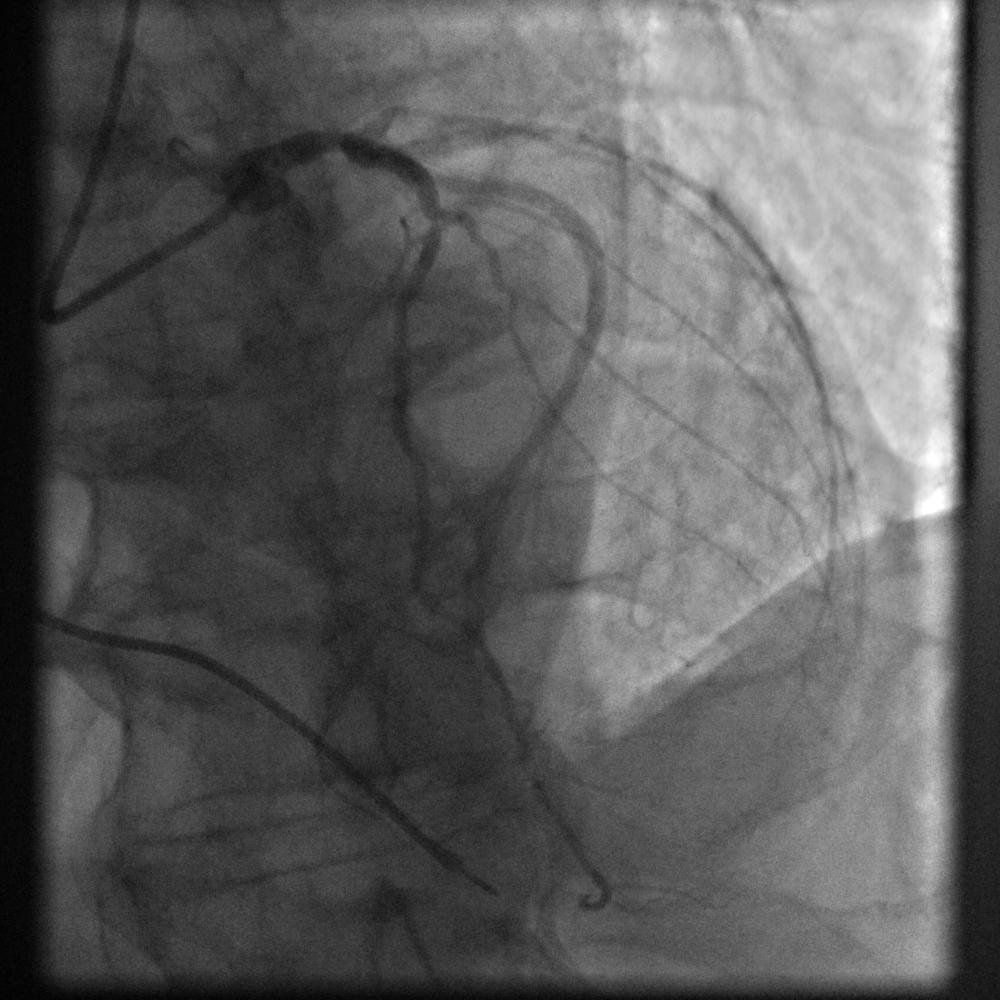Stenosis: (413, 196, 465, 247)
